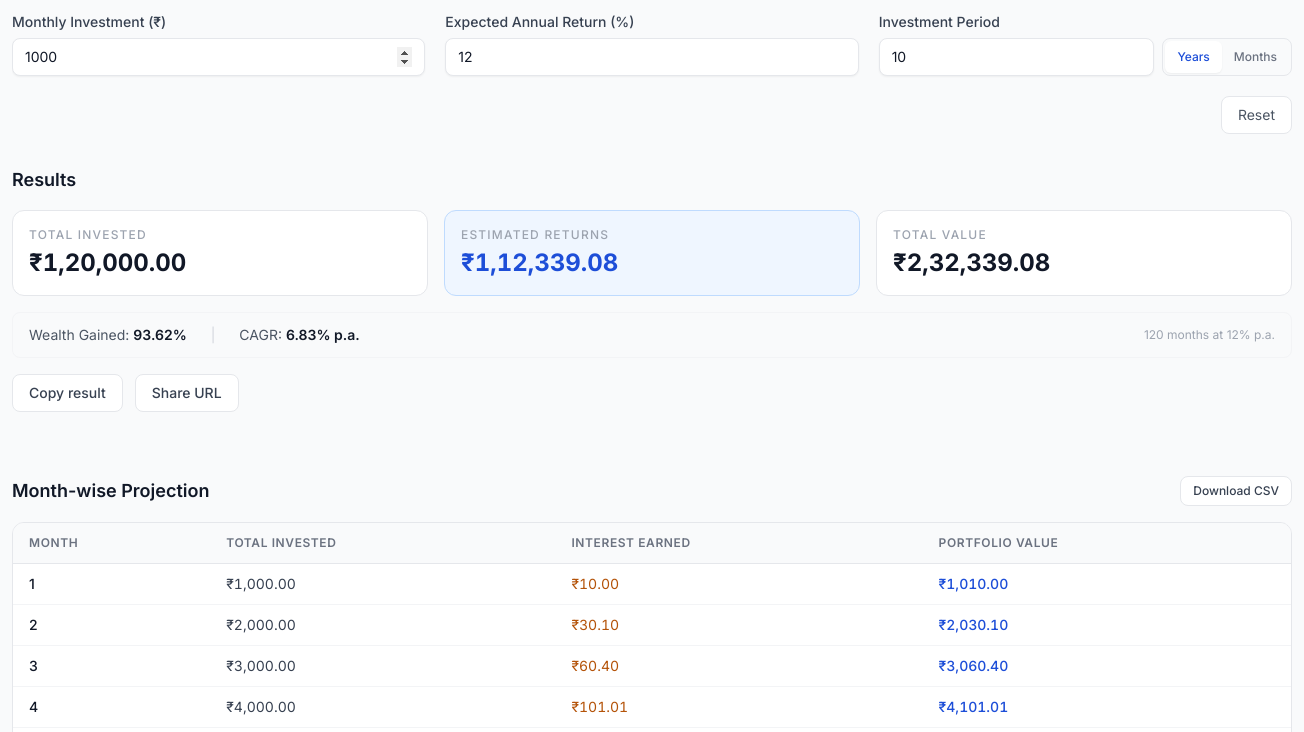
Test: SIPCalculator › hides results when amount is invalid
Replace the text in the number field labelled "Monthly Investment (₹)" with "0": coordinates (219, 57) [12,38,425,76]
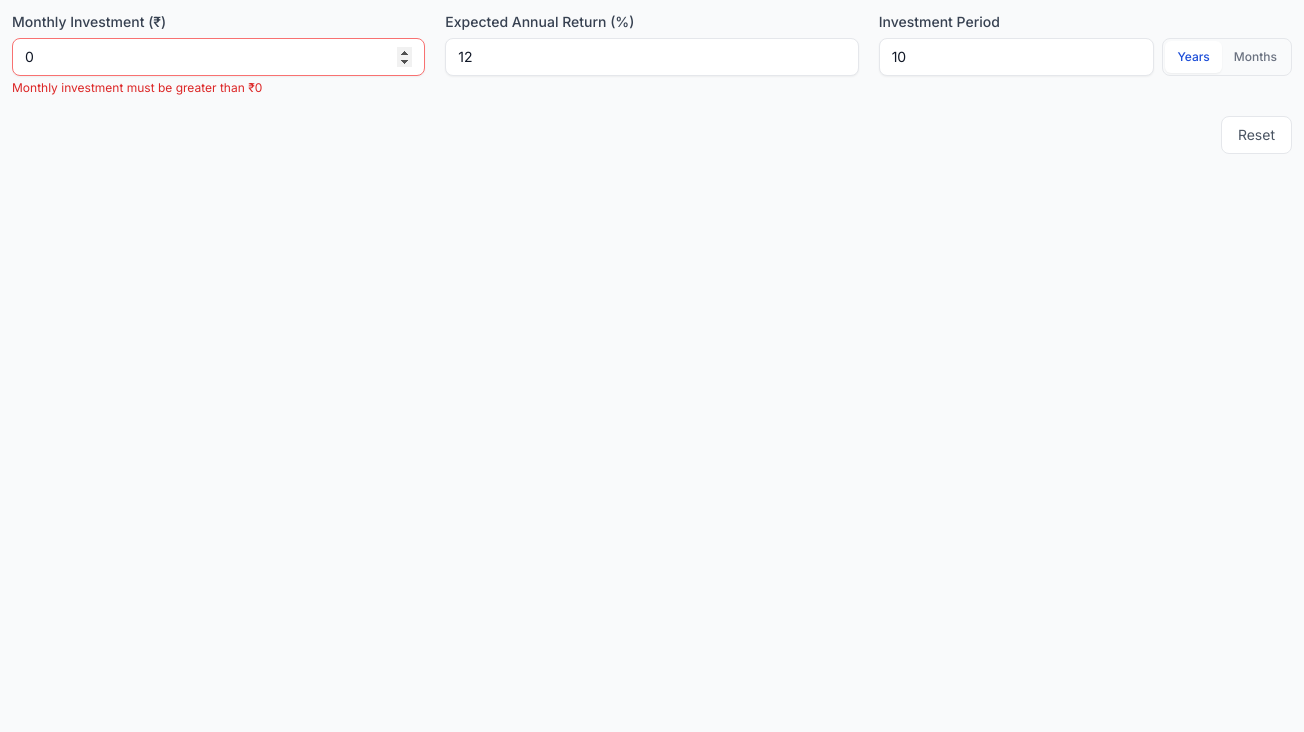
Expected: the heading "Results" is gone
